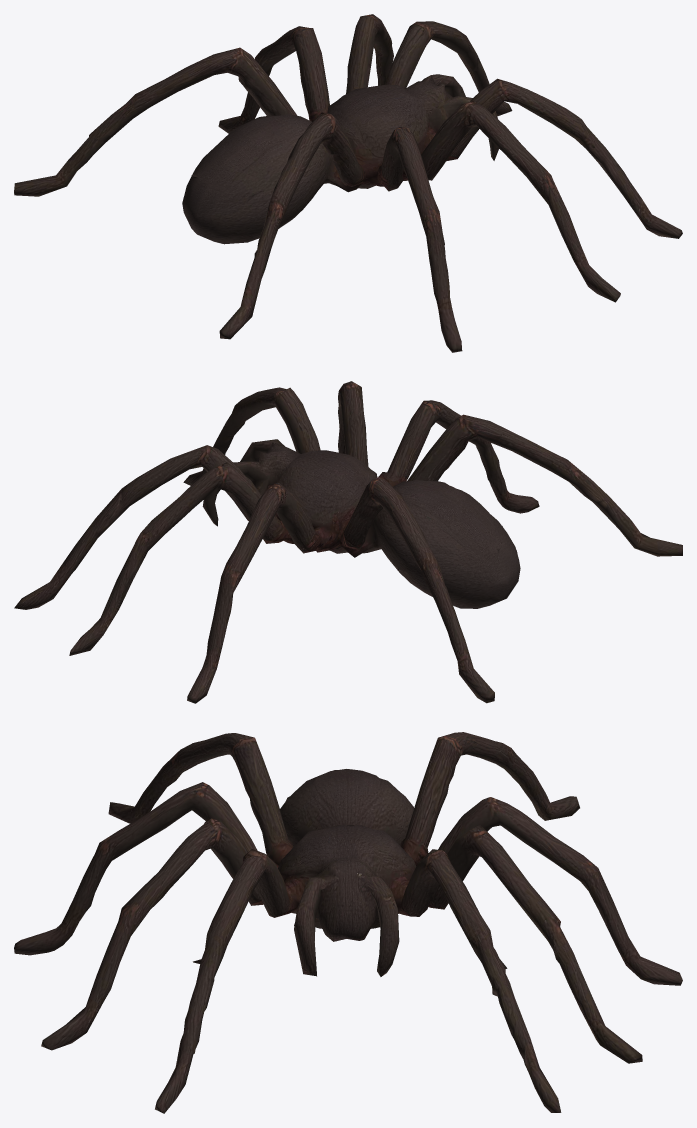
File: arana-g1.glb
3 renders of one model, top to bottom at view 1: azimuth 30°, elevation 25°; view 2: azimuth 150°, elevation 25°; view 3: azimuth 270°, elevation 25°, orthographic. The views are drawn at different scales.
Visible parts, largest first — view 1: tripo_node_fad52b6b-4f8a-4e76-b903-84996940a70e; view 2: tripo_node_fad52b6b-4f8a-4e76-b903-84996940a70e; view 3: tripo_node_fad52b6b-4f8a-4e76-b903-84996940a70e.
Boxes of the visible parts, x1,y1,x2,y2 form: tripo_node_fad52b6b-4f8a-4e76-b903-84996940a70e: [14, 14, 682, 352]; tripo_node_fad52b6b-4f8a-4e76-b903-84996940a70e: [14, 381, 682, 703]; tripo_node_fad52b6b-4f8a-4e76-b903-84996940a70e: [14, 732, 682, 1113].
Bounding box in the file's own units: 0.9732 × 0.3278 × 0.9993.
Materials: 1 (1 with a texture image).
